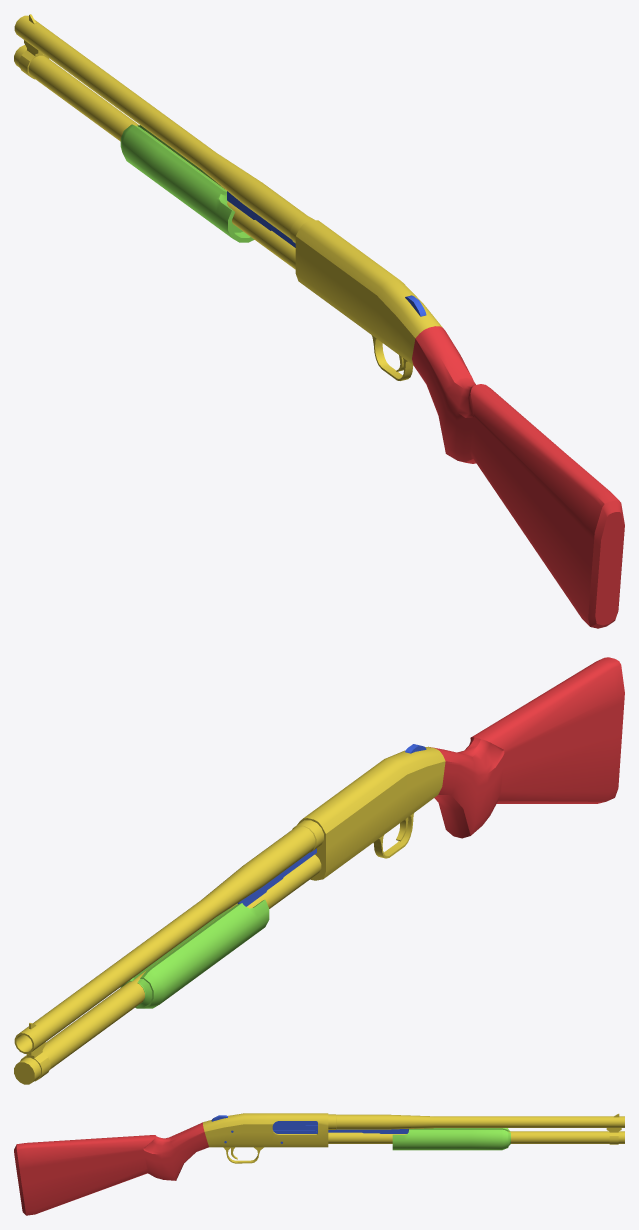
Rendered from mossberg 500_v3_.fbx.
3 renders of one model, top to bottom at view 1: azimuth 30°, elevation 25°; view 2: azimuth 150°, elevation 25°; view 3: azimuth 270°, elevation 25°, orthographic. The views are drawn at different scales.
Visible parts, largest first — view 1: lp.002; view 2: lp.002; view 3: lp.002.
Part boxes in pixels (x1,y1,x2,y2): lp.002: (14,14,624,628); lp.002: (14,657,624,1084); lp.002: (14,1113,624,1215).
Size of the model in its own units: 4.21 by 18.79 by 104.
